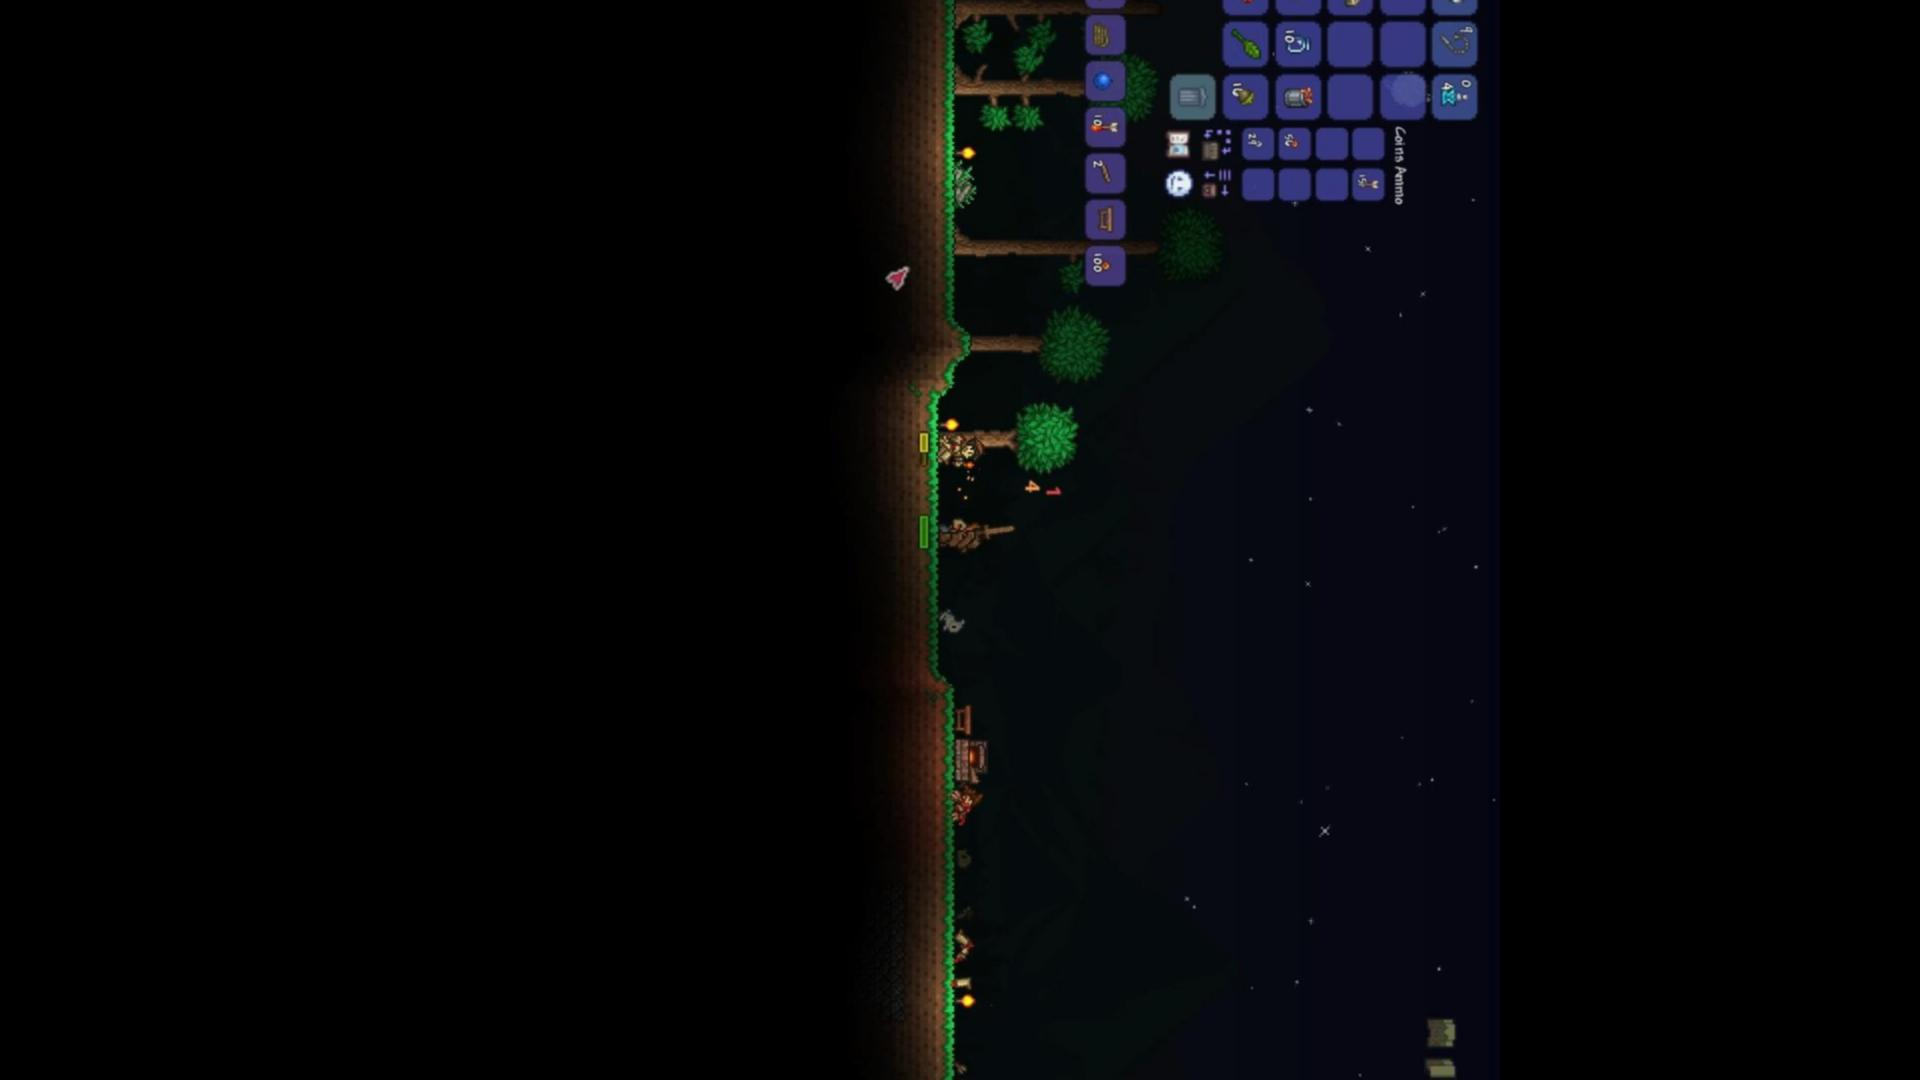dirt: (927, 680, 971, 1080), (926, 0, 968, 376), (910, 393, 949, 696)
